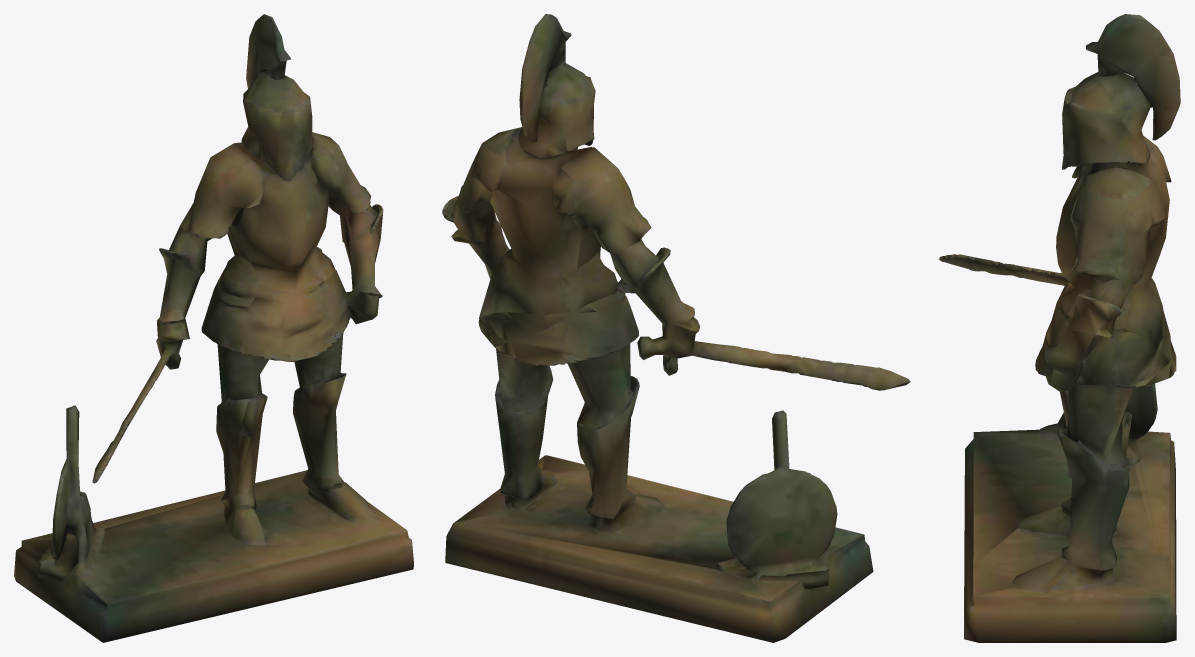
The model's file is old-bronze-suit-of-armour-v001.glb.
3 renders of one model, left to right at view 1: azimuth 30°, elevation 25°; view 2: azimuth 150°, elevation 25°; view 3: azimuth 270°, elevation 25°, orthographic. The views are drawn at different scales.
Parts seen in each view (by area): view 1: old-bronze-suit-of-armour; view 2: old-bronze-suit-of-armour; view 3: old-bronze-suit-of-armour.
Part boxes in pixels (x1,y1,x2,y2): old-bronze-suit-of-armour: (14,14,413,642); old-bronze-suit-of-armour: (442,14,910,642); old-bronze-suit-of-armour: (939,14,1180,642).
Size of the model in its own units: 1.33 by 1.81 by 0.6771.
Materials: 1 (1 with a texture image).
